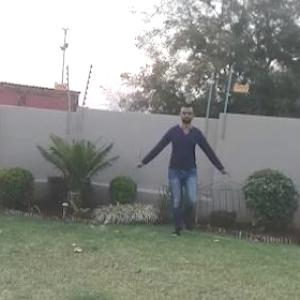land: (133, 107, 231, 238)
